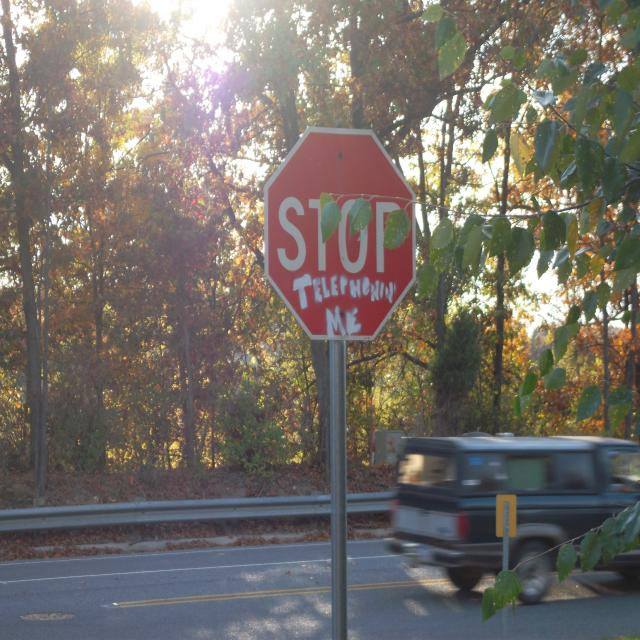stop: (254, 122, 426, 348)
